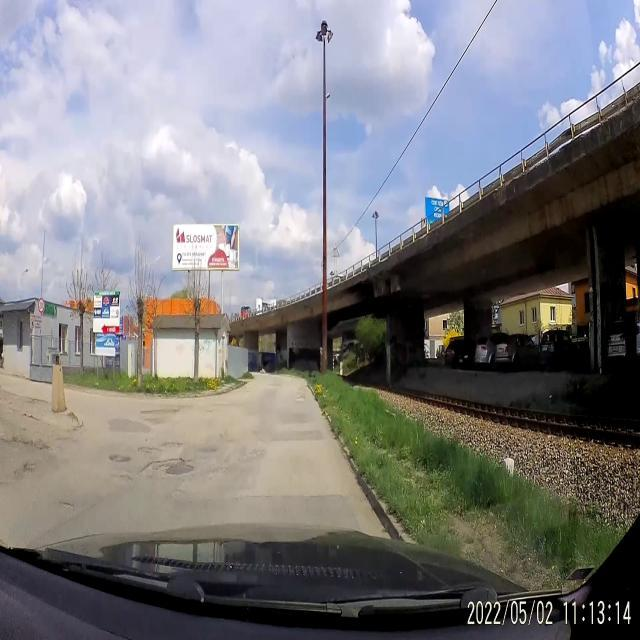Manhole: (108, 450, 134, 470), (164, 462, 194, 477), (196, 440, 216, 457)
Pothole: (136, 433, 163, 464), (162, 430, 185, 456), (119, 467, 141, 492), (140, 461, 166, 476), (141, 407, 180, 415)
